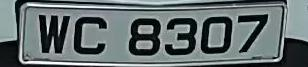0: (199, 15, 237, 55)
3: (166, 14, 203, 58)
7: (237, 11, 274, 54)
8: (124, 13, 164, 60)
C: (69, 14, 109, 59)
W: (39, 13, 69, 58)
